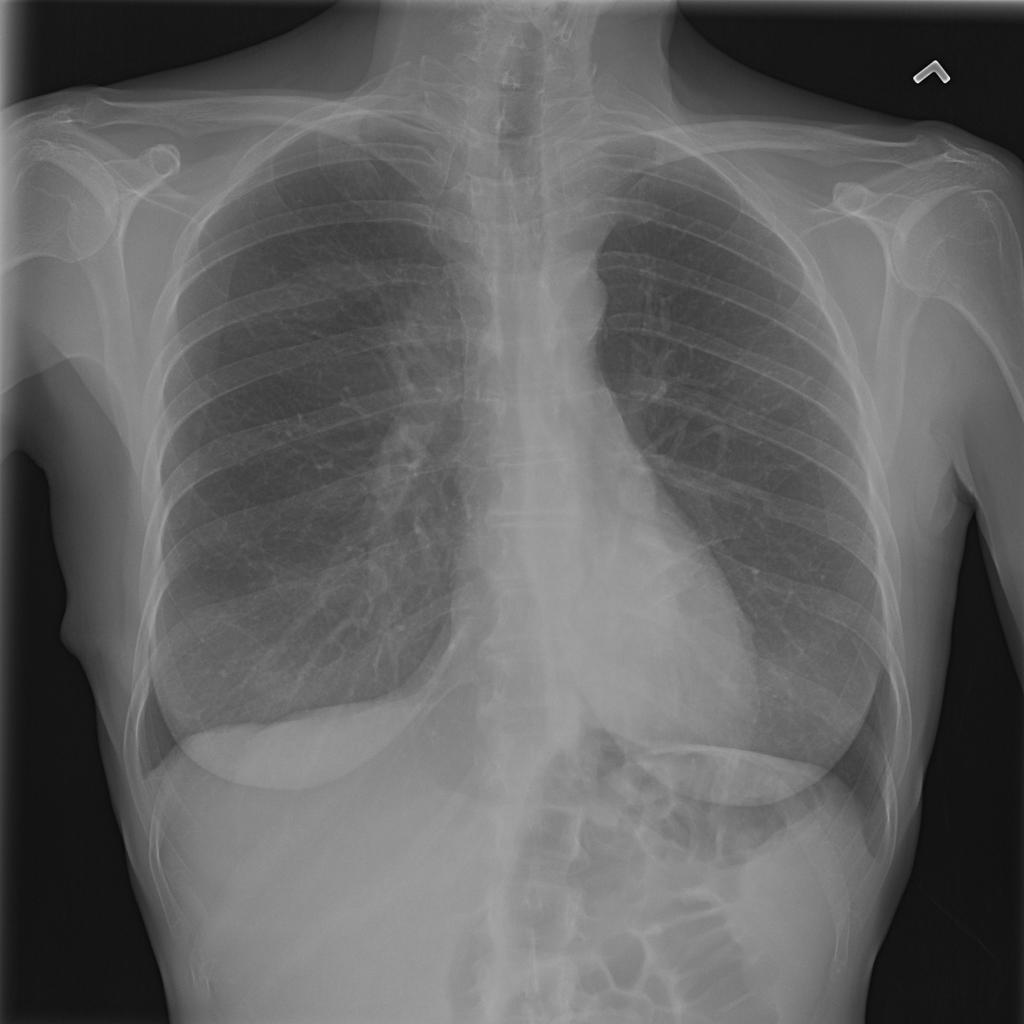nodule: (600, 450, 668, 528)
